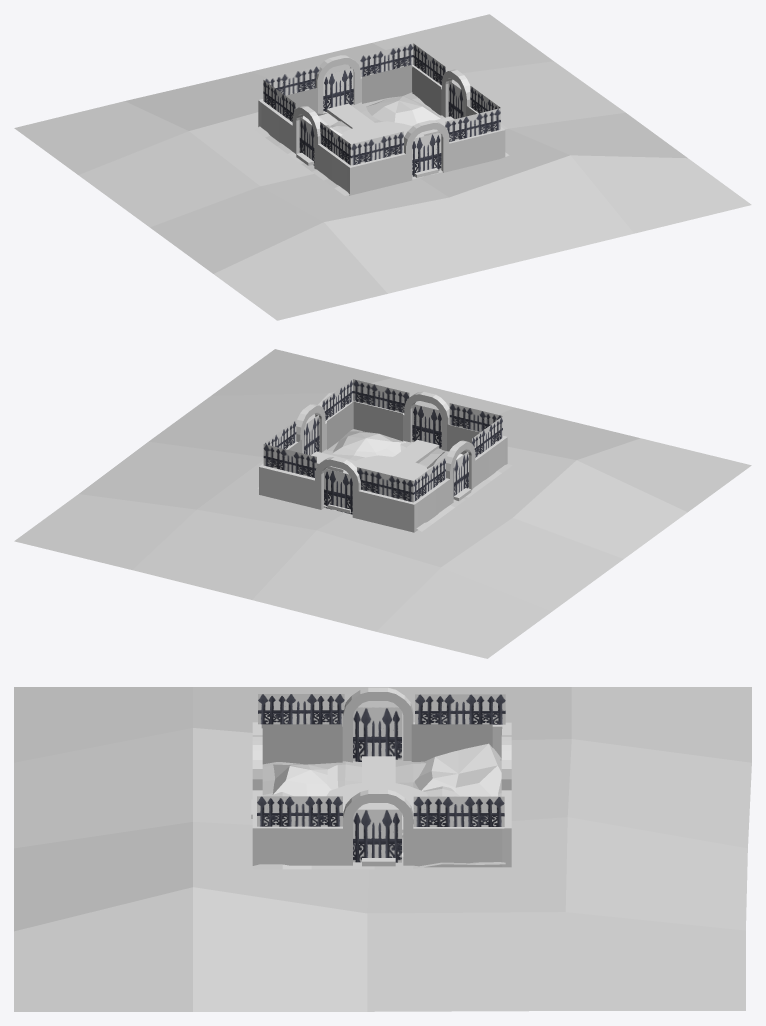
Rendered from new_witch_Courtyard.fbx.
3 views of the same model, one above another, from view 1: azimuth 30°, elevation 25°; view 2: azimuth 150°, elevation 25°; view 3: azimuth 270°, elevation 25° (orthographic). The views are drawn at different scales.
Parts seen in each view (by area): view 1: Plane.019; view 2: Plane.019; view 3: Plane.019.
Boxes of the visible parts, left/top/right/bottom form: Plane.019: left=14, top=14, right=751, bottom=320; Plane.019: left=14, top=349, right=751, bottom=658; Plane.019: left=14, top=687, right=751, bottom=1011.
Size of the model in its own units: 90158 by 13918 by 86594.
